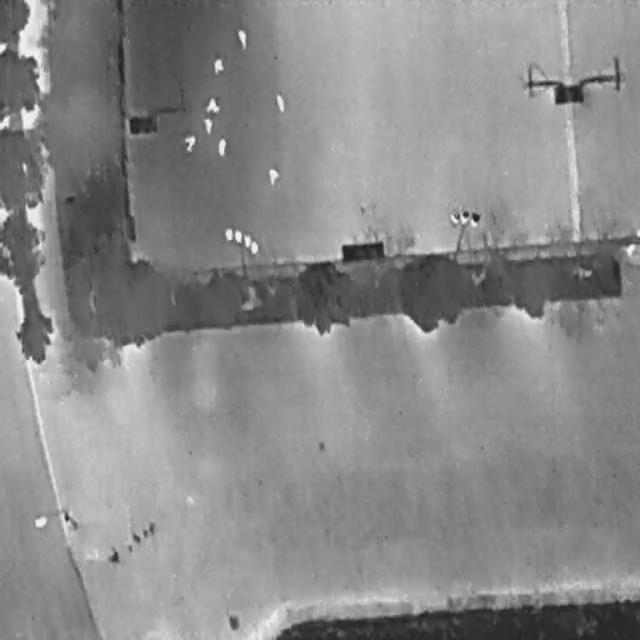Person: (273, 91, 285, 112), (237, 26, 246, 50), (206, 96, 219, 112), (216, 135, 226, 155), (267, 166, 278, 184), (213, 56, 223, 74), (184, 135, 195, 151), (203, 116, 212, 134)
